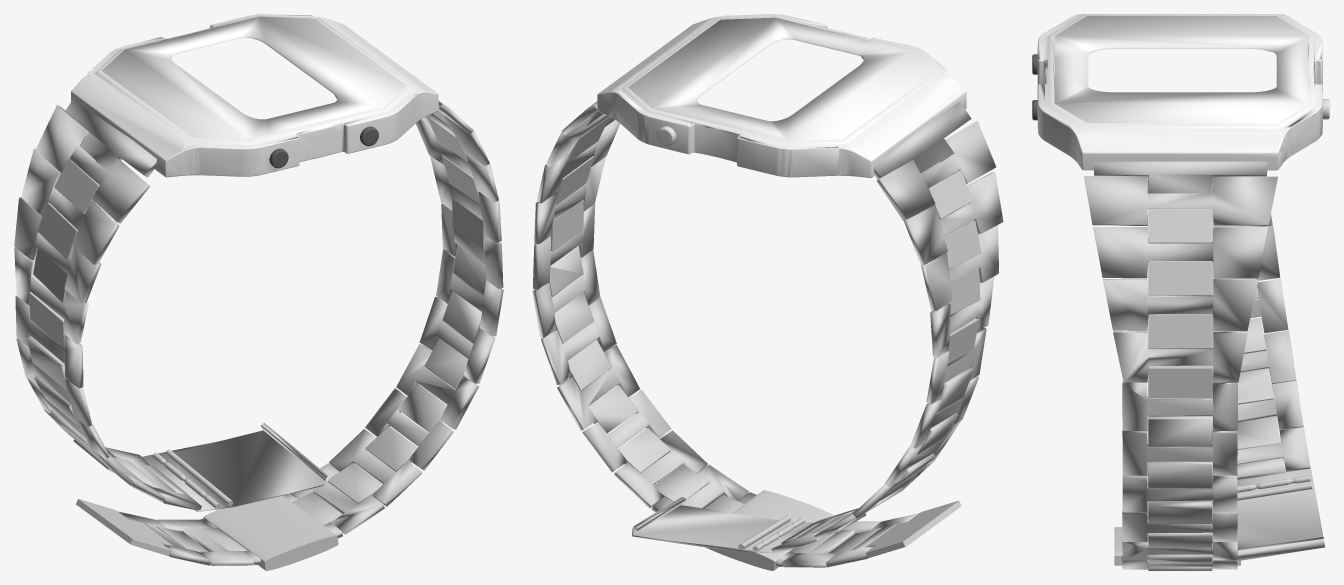
File: watch_squash.glb
3 renders of one model, left to right at view 1: azimuth 30°, elevation 25°; view 2: azimuth 150°, elevation 25°; view 3: azimuth 270°, elevation 25°, orthographic. The views are drawn at different scales.
Visible parts, largest first — view 1: HODINKY; view 2: HODINKY; view 3: HODINKY.
Boxes of the visible parts, <box> form: HODINKY: <box>14,14,503,570</box>; HODINKY: <box>532,14,1003,570</box>; HODINKY: <box>1032,14,1329,570</box>.
Bounding box in the file's own units: 3.73 × 3.92 × 2.21.
7 materials, 1 textured.
